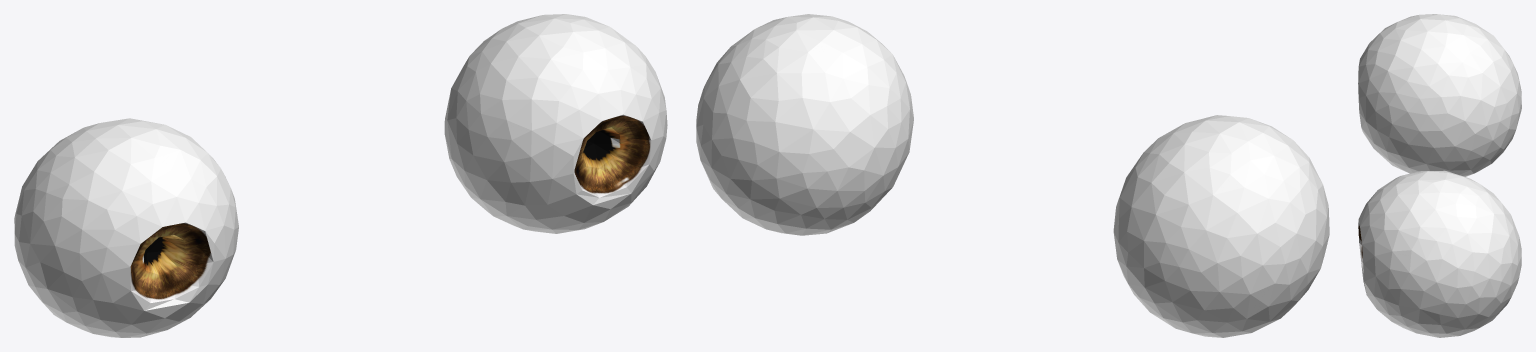
File: Eyes.obj
3 views of the same model, side by side, from view 1: azimuth 30°, elevation 25°; view 2: azimuth 150°, elevation 25°; view 3: azimuth 270°, elevation 25° (orthographic). The views are drawn at different scales.
Visible parts, largest first — view 1: Musculos_Cabeza_1:Eyes:Eyes; view 2: Musculos_Cabeza_1:Eyes:Eyes; view 3: Musculos_Cabeza_1:Eyes:Eyes.
Boxes of the visible parts, <box> form: Musculos_Cabeza_1:Eyes:Eyes: <box>14,14,667,337</box>; Musculos_Cabeza_1:Eyes:Eyes: <box>696,14,1329,337</box>; Musculos_Cabeza_1:Eyes:Eyes: <box>1358,14,1521,337</box>.
Size of the model in its own units: 0.3926 by 0.1221 by 0.1194.
Materials: 1 (1 with a texture image).
